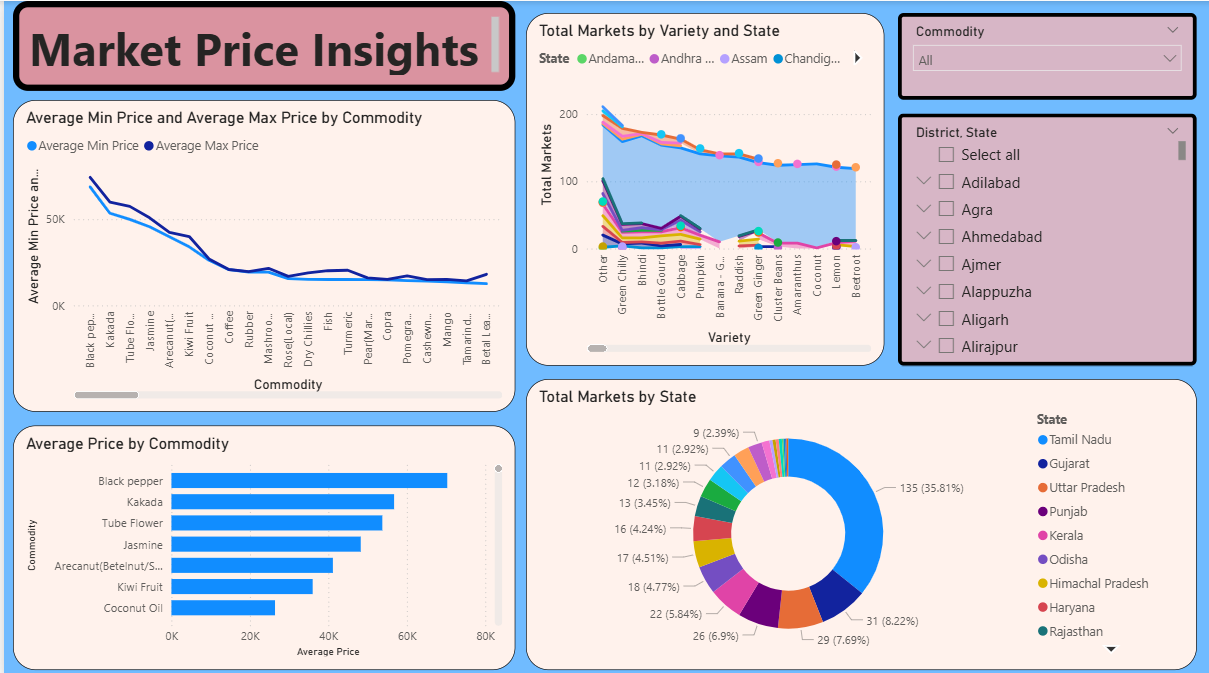

This screenshot's page, from the dashboard's own definition file:
{"tool":"powerbi","page":{"name":"Page 3","canvas":[1280,720],"ordinal":2},"visuals":[{"type":"textbox","box":[9.5,0,532.9,95.4],"z":0},{"type":"lineChart","fields":{"Category":["9ef84268-d588-465a-a308-a864a43d0070.Commodity"],"Y":["9ef84268-d588-465a-a308-a864a43d0070.Average Min Price","9ef84268-d588-465a-a308-a864a43d0070.Average Max Price"]},"box":[9.5,105,532.9,330.8],"z":1000},{"type":"barChart","fields":{"Category":["9ef84268-d588-465a-a308-a864a43d0070.Commodity"],"Y":["9ef84268-d588-465a-a308-a864a43d0070.Average Price"]},"box":[9.5,450.1,532.9,259.3],"z":2000},{"type":"donutChart","fields":{"Category":["9ef84268-d588-465a-a308-a864a43d0070.State"],"Y":["9ef84268-d588-465a-a308-a864a43d0070.Total Markets"]},"box":[553.5,400.8,711,308.6],"z":3000},{"type":"stackedAreaChart","fields":{"Category":["9ef84268-d588-465a-a308-a864a43d0070.Variety"],"Y":["9ef84268-d588-465a-a308-a864a43d0070.Total Markets"],"Series":["9ef84268-d588-465a-a308-a864a43d0070.State"]},"box":[553.5,12.7,380.2,373.8],"z":4000},{"type":"slicer","fields":{"Values":["9ef84268-d588-465a-a308-a864a43d0070.Commodity"]},"box":[948,12.7,316.5,92.3],"z":4001},{"type":"slicer","fields":{"Values":["9ef84268-d588-465a-a308-a864a43d0070.District","9ef84268-d588-465a-a308-a864a43d0070.State"]},"box":[948,119.3,316.5,267.2],"z":4002}]}

Visuals, with their boxes in screenshot pixels (x1, y1, x2, y2), scaled from the page's 1280x720 canvas onto the 1209x673 screenshot:
textbox: locate(9, 0, 512, 89)
lineChart - 9ef84268-d588-465a-a308-a864a43d0070.Commodity x 9ef84268-d588-465a-a308-a864a43d0070.Average Min Price: locate(9, 98, 512, 407)
barChart - 9ef84268-d588-465a-a308-a864a43d0070.Commodity x 9ef84268-d588-465a-a308-a864a43d0070.Average Price: locate(9, 421, 512, 663)
donutChart - 9ef84268-d588-465a-a308-a864a43d0070.State x 9ef84268-d588-465a-a308-a864a43d0070.Total Markets: locate(523, 375, 1194, 663)
stackedAreaChart - 9ef84268-d588-465a-a308-a864a43d0070.Variety x 9ef84268-d588-465a-a308-a864a43d0070.Total Markets: locate(523, 12, 882, 361)
slicer - 9ef84268-d588-465a-a308-a864a43d0070.Commodity: locate(895, 12, 1194, 98)
slicer - 9ef84268-d588-465a-a308-a864a43d0070.District x 9ef84268-d588-465a-a308-a864a43d0070.State: locate(895, 112, 1194, 361)
